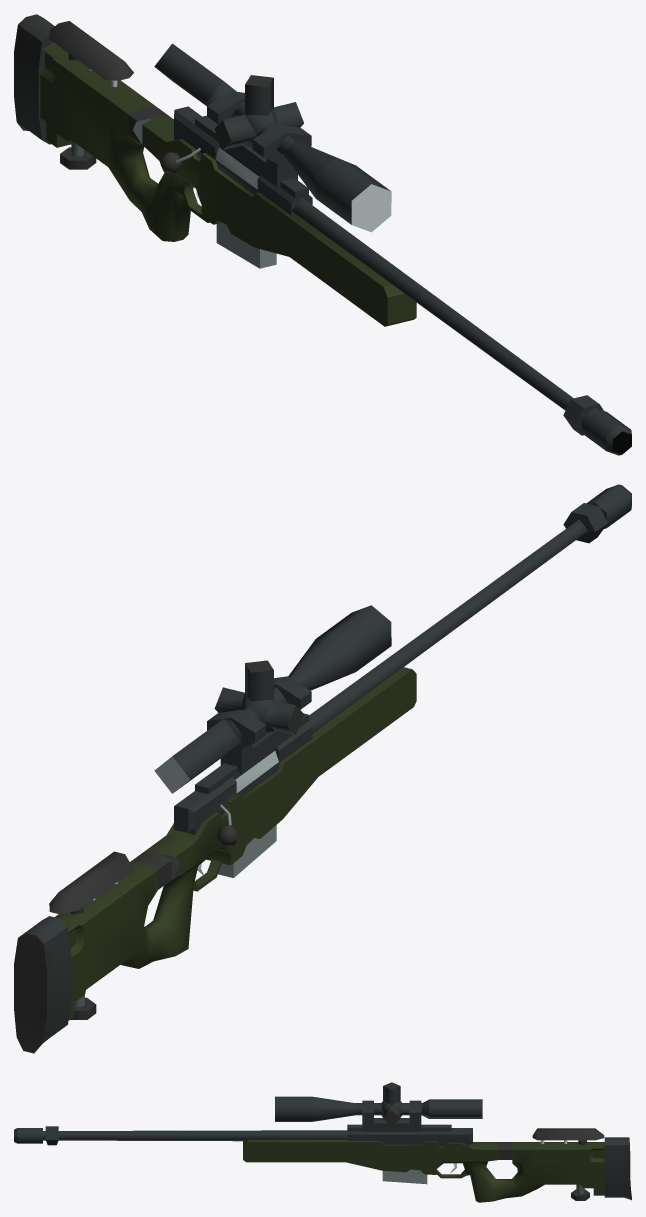
The model's file is Weapon_Low_SniperRifle.FBX.
3 views of the same model, one above another, from view 1: azimuth 30°, elevation 25°; view 2: azimuth 150°, elevation 25°; view 3: azimuth 270°, elevation 25° (orthographic). The views are drawn at different scales.
Parts seen in each view (by area): view 1: WeaponSniperRifle_Low, WeaponSniperRifle_Mag_Low; view 2: WeaponSniperRifle_Low, WeaponSniperRifle_Mag_Low; view 3: WeaponSniperRifle_Low, WeaponSniperRifle_Mag_Low.
Boxes of the visible parts, x1,y1,x2,y2 form: WeaponSniperRifle_Low: (14,14,631,455); WeaponSniperRifle_Mag_Low: (216,222,276,268); WeaponSniperRifle_Low: (14,484,631,1053); WeaponSniperRifle_Mag_Low: (218,825,276,877); WeaponSniperRifle_Low: (14,1082,631,1202); WeaponSniperRifle_Mag_Low: (382,1169,427,1184).
Size of the model in its own units: 10.33 by 142 by 28.79.
